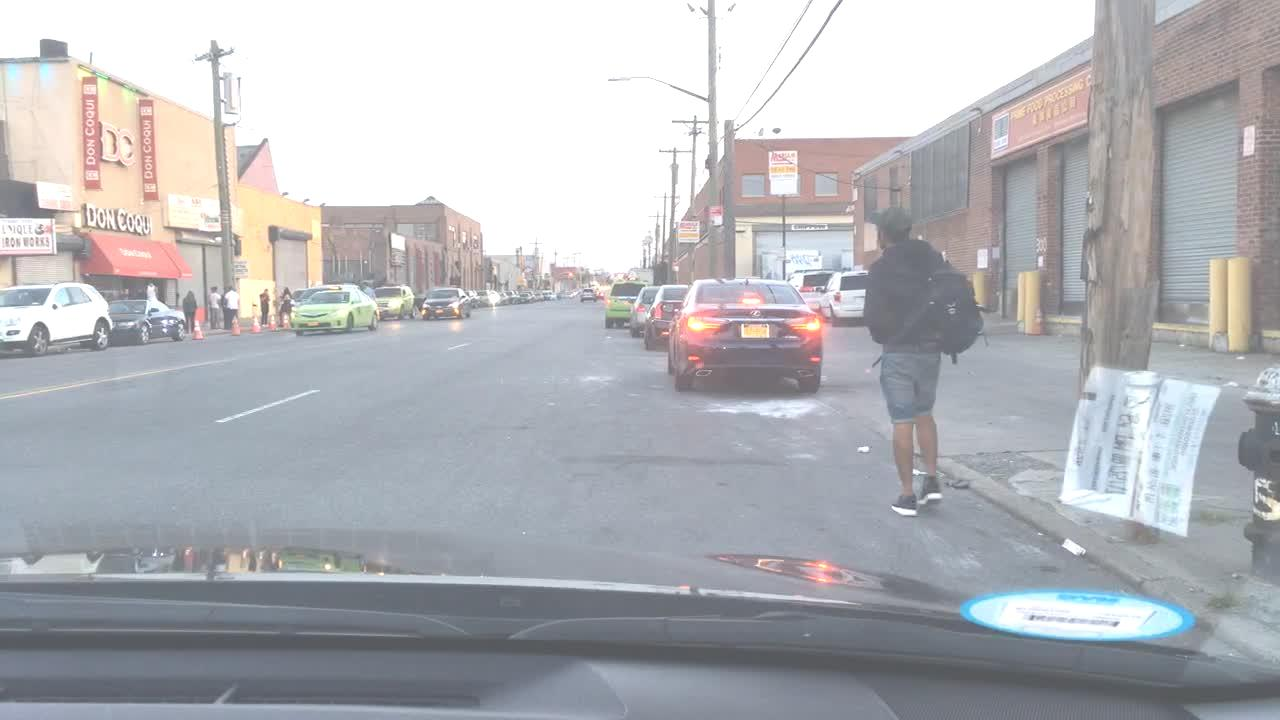lexus: (744, 306, 767, 321)
